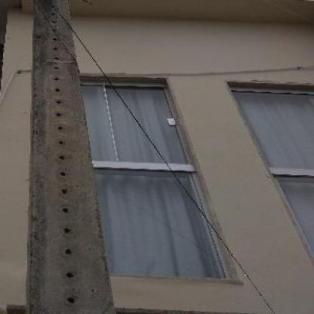Poste: (27, 0, 118, 314)
